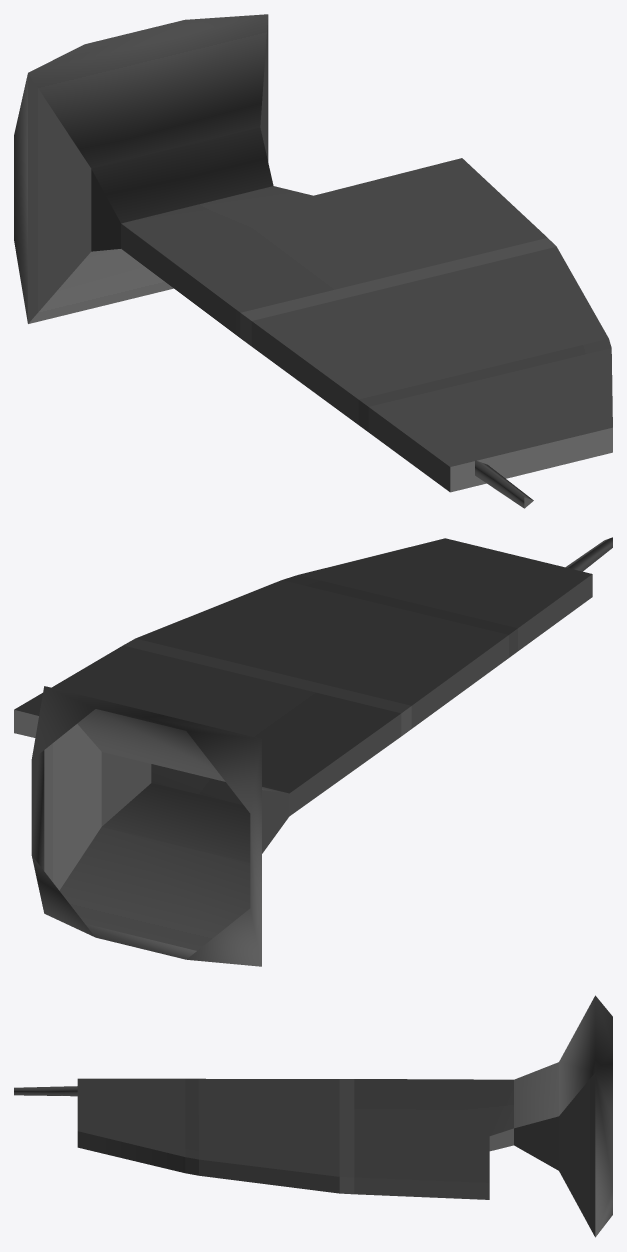
The model's file is stat_top8.glb.
3 views of the same model, one above another, from view 1: azimuth 30°, elevation 25°; view 2: azimuth 150°, elevation 25°; view 3: azimuth 270°, elevation 25° (orthographic). The views are drawn at different scales.
Parts seen in each view (by area): view 1: group_19; view 2: group_19; view 3: group_19.
Part boxes in pixels (x1,y1,x2,y2): group_19: [14, 14, 612, 508]; group_19: [14, 537, 612, 966]; group_19: [14, 995, 612, 1237].
Size of the model in its own units: 11114 by 7581 by 24731.
2 materials, 2 textured.
